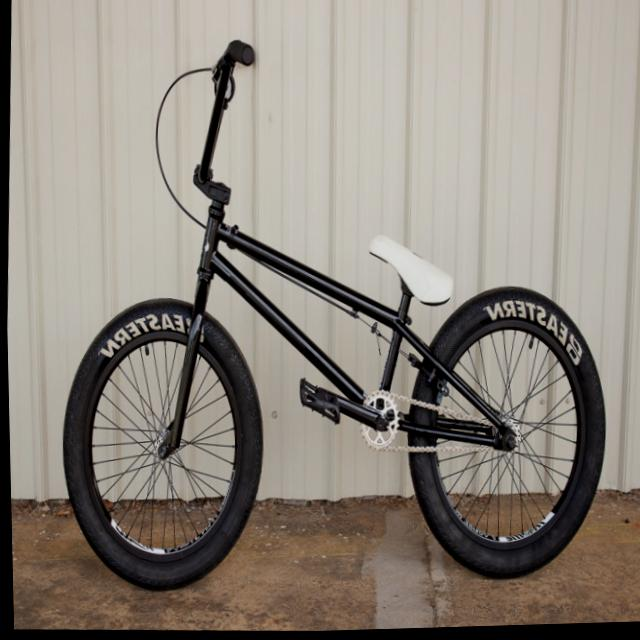bmx-bike: (46, 26, 620, 610)
